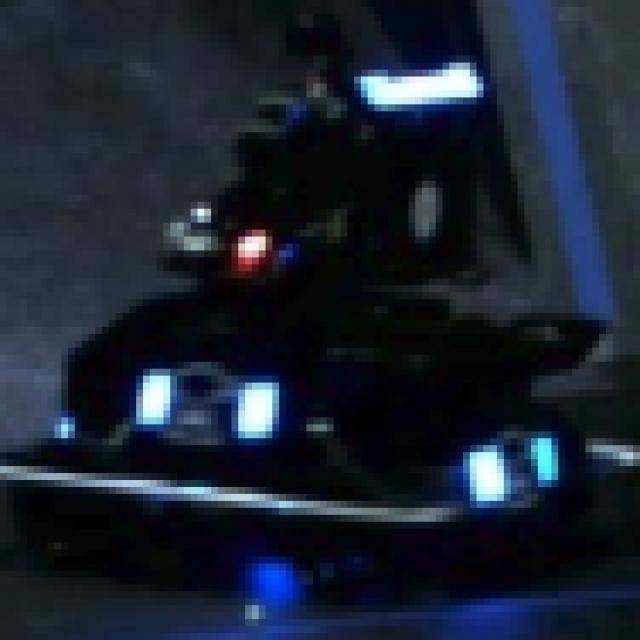Bs: (136, 362, 286, 459), (456, 410, 572, 501)
